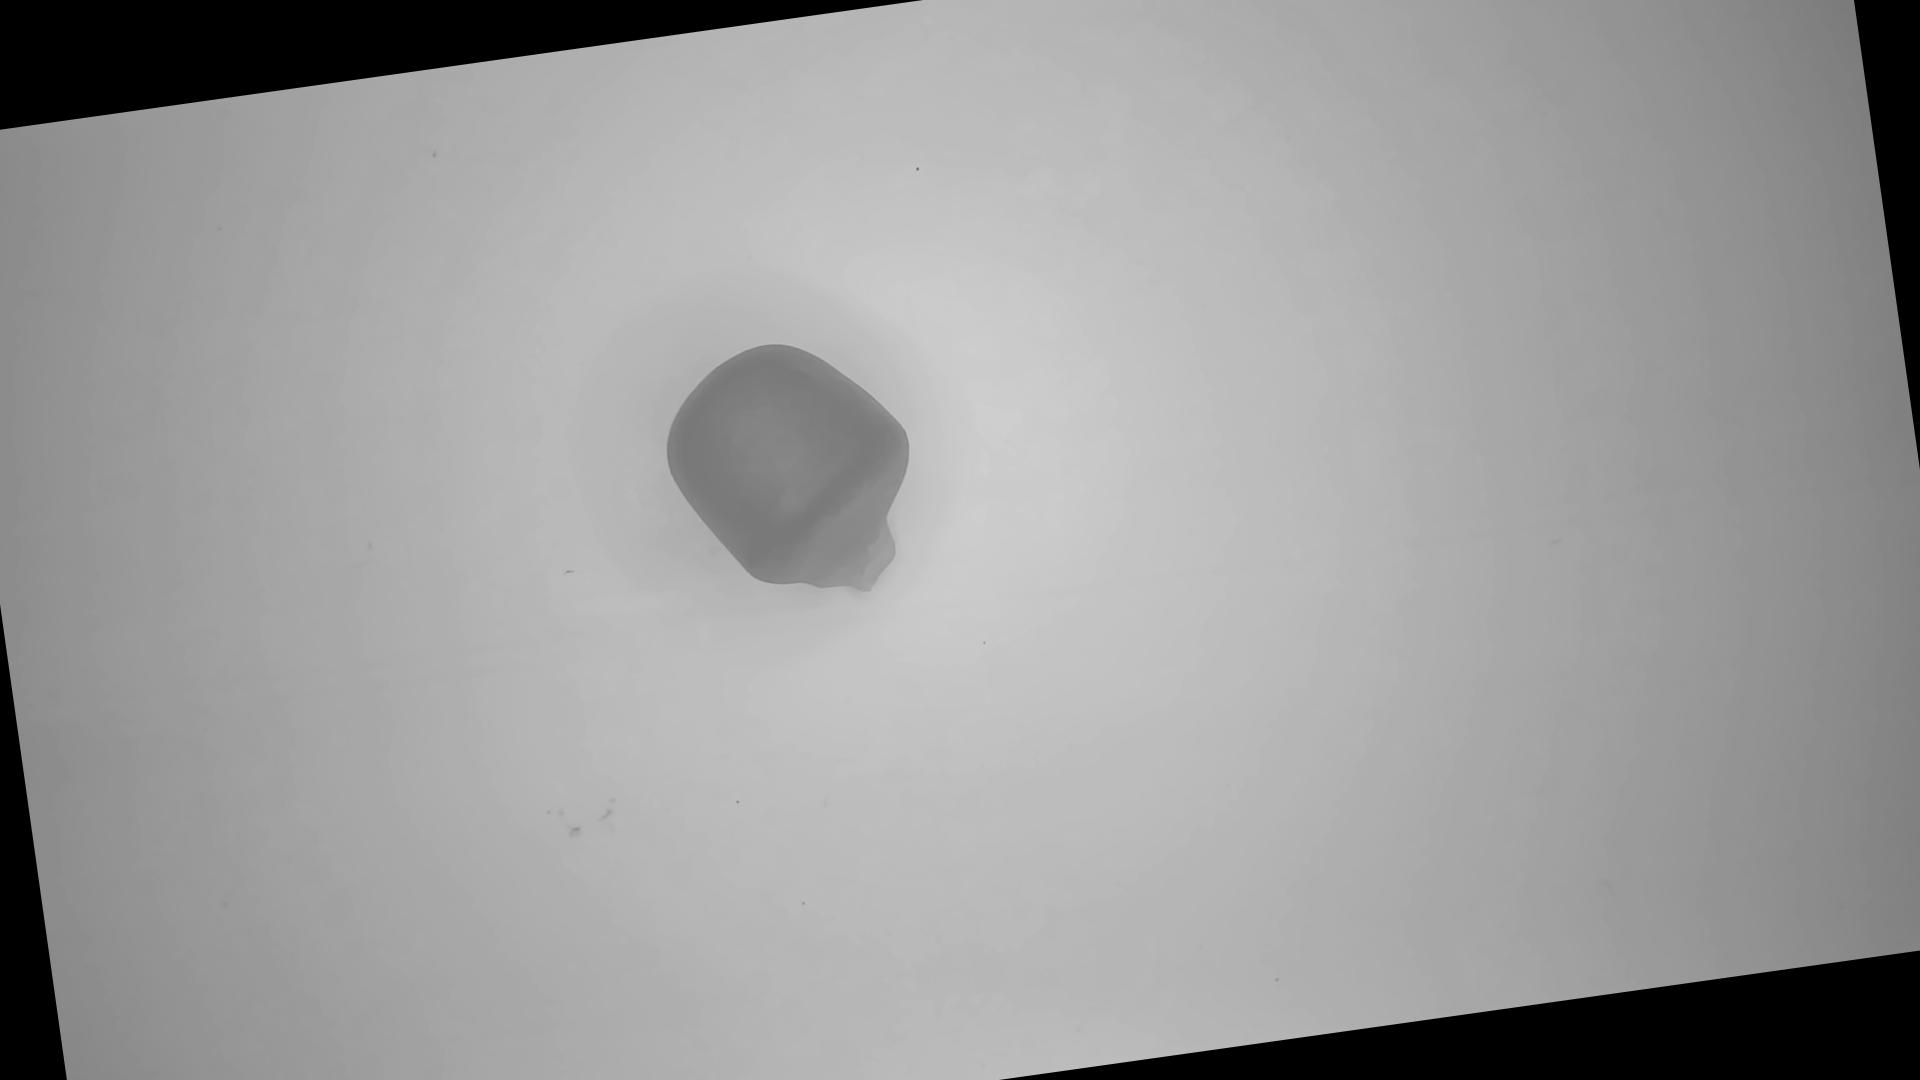abnormal: (653, 324, 932, 620)
